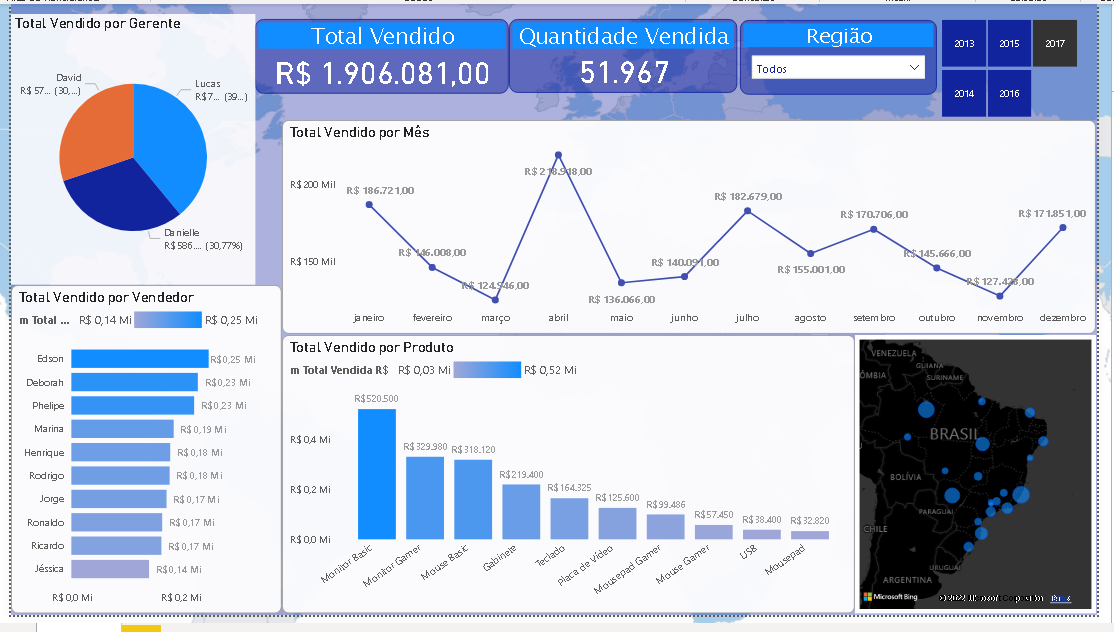

Layout of this report page (visuals, bound fields, positions):
{"tool":"powerbi","page":{"name":"Página 1","canvas":[1280,720],"ordinal":0},"visuals":[{"type":"card","title":"Total Vendido","fields":{"Values":["Vendas.m Total Vendida R$"]},"box":[287.5,17.3,299.3,88.4],"z":0},{"type":"card","title":"Quantidade Vendida","fields":{"Values":["Vendas.Quantidade vendida"]},"box":[586.8,17.3,268.7,87.2],"z":1000},{"type":"lineChart","title":"Total Vendido por Mês","fields":{"Y":["Vendas.m Total Vendida R$"],"Category":["Vendas.Data.Variation.Hierarquia de datas.Mês"]},"box":[319.3,136.5,959.2,252.2],"z":2000},{"type":"slicer","fields":{"Values":["Vendas.Data.Variation.Hierarquia de datas.Ano"]},"box":[1071.2,11.8,208.6,128.4],"z":3000},{"type":"clusteredColumnChart","title":"Total Vendido por Produto","fields":{"Y":["Vendas.m Total Vendida R$"],"Category":["Vendas.Produto"]},"box":[319.3,390,675.2,327.6],"z":4000},{"type":"clusteredBarChart","title":"Total Vendido por Vendedor","fields":{"Category":["Vendas.Vendedor"],"Y":["Vendas.m Total Vendida R$"]},"box":[0,331.1,319.3,386.5],"z":5000},{"type":"pieChart","title":"Total Vendido por Gerente","fields":{"Category":["Vendas.Gerente"],"Y":["Vendas.m Total Vendida R$"]},"box":[0,11.8,287.5,319.3],"z":6000},{"type":"map","fields":{"Category":["Vendas.Cidade"],"Size":["Vendas.Quantidade vendida"]},"box":[994.6,390,284,327.6],"z":7000},{"type":"slicer","title":"Região","fields":{"Values":["Vendas.Região"]},"box":[859.1,18.7,232.1,88.4],"z":7001}]}

Visuals, with their boxes in screenshot pixels (x1, y1, x2, y2), scaled from the page's 1280x720 canvas onto the 1114x632 screenshot:
"Total Vendido" card: region(250, 15, 511, 93)
"Quantidade Vendida" card: region(511, 15, 745, 92)
"Total Vendido por Mês" lineChart: region(278, 120, 1113, 341)
slicer - Vendas.Data.Variation.Hierarquia de datas.Ano: region(932, 10, 1113, 123)
"Total Vendido por Produto" clusteredColumnChart: region(278, 342, 866, 630)
"Total Vendido por Vendedor" clusteredBarChart: region(0, 291, 278, 630)
"Total Vendido por Gerente" pieChart: region(0, 10, 250, 291)
map - Vendas.Cidade x Vendas.Quantidade vendida: region(866, 342, 1113, 630)
"Região" slicer: region(748, 16, 950, 94)
